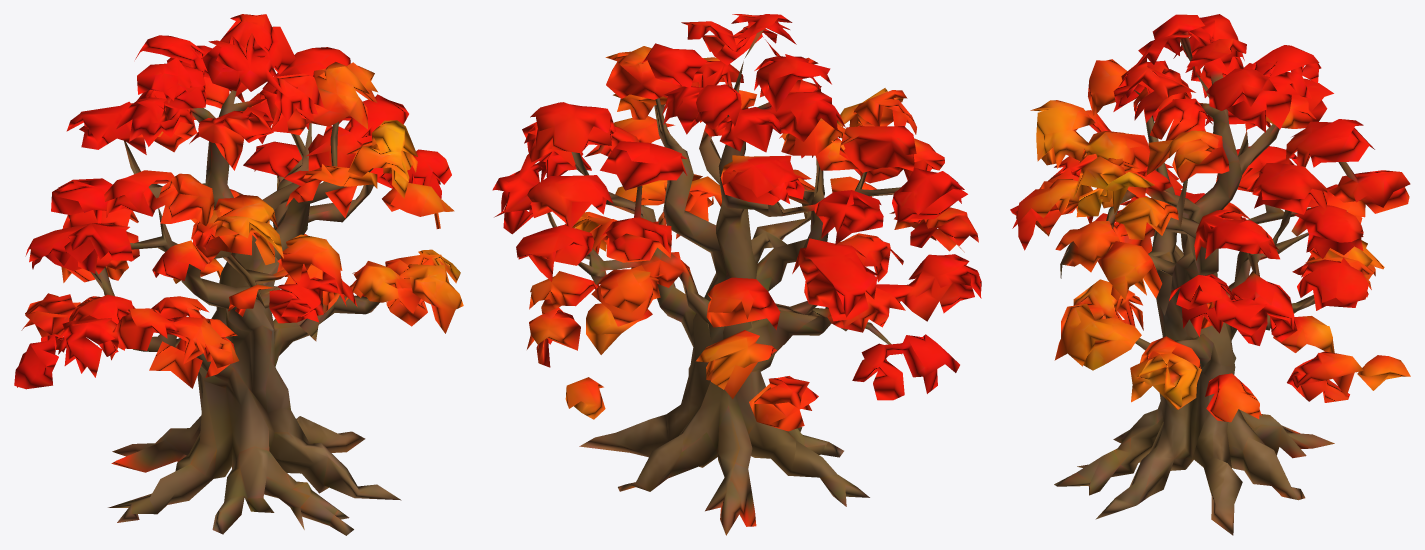
File: maple.glb
The picture shows the model from 3 angles, left to right: view 1: azimuth 30°, elevation 25°; view 2: azimuth 150°, elevation 25°; view 3: azimuth 270°, elevation 25°; orthographic projection. The views are drawn at different scales.
Visible parts, largest first — view 1: tripo_node_ad1006e9-2388-4ac0-9469-53ef9ed0a55a; view 2: tripo_node_ad1006e9-2388-4ac0-9469-53ef9ed0a55a; view 3: tripo_node_ad1006e9-2388-4ac0-9469-53ef9ed0a55a.
Boxes of the visible parts, x1=… form: tripo_node_ad1006e9-2388-4ac0-9469-53ef9ed0a55a: x1=14, y1=14, x2=463, y2=535; tripo_node_ad1006e9-2388-4ac0-9469-53ef9ed0a55a: x1=492, y1=14, x2=981, y2=535; tripo_node_ad1006e9-2388-4ac0-9469-53ef9ed0a55a: x1=1010, y1=14, x2=1410, y2=535.
Size of the model in its own units: 1 by 0.9868 by 0.8112.
1 material, 1 textured.
